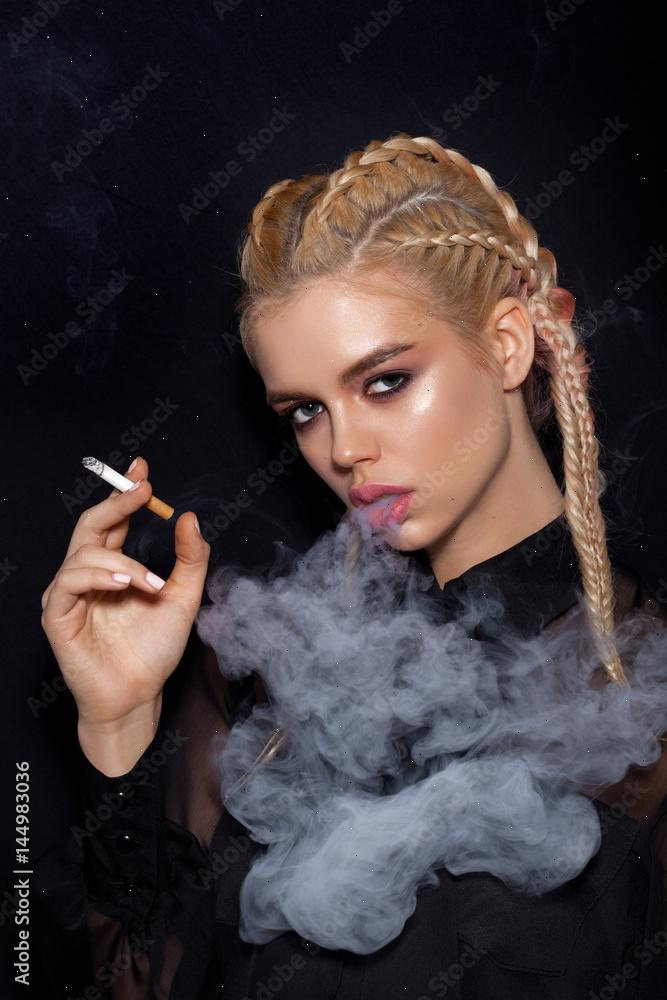cigarette: (83, 457, 133, 491)
